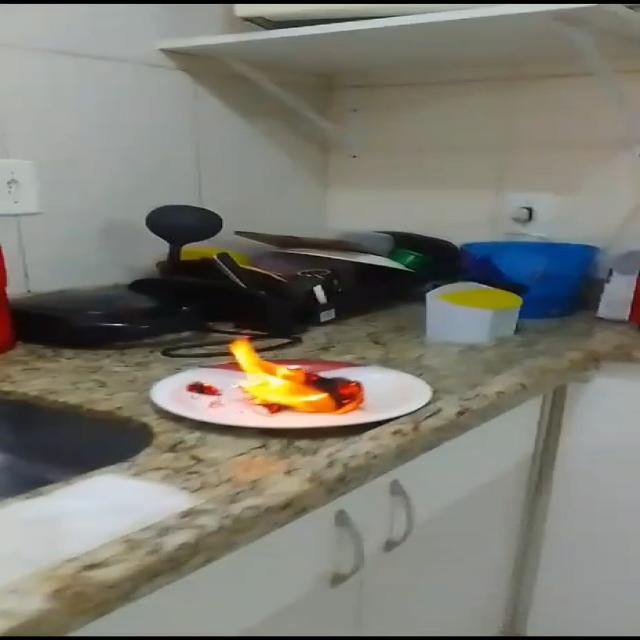fogo-ypXI: (226, 332, 366, 414)
